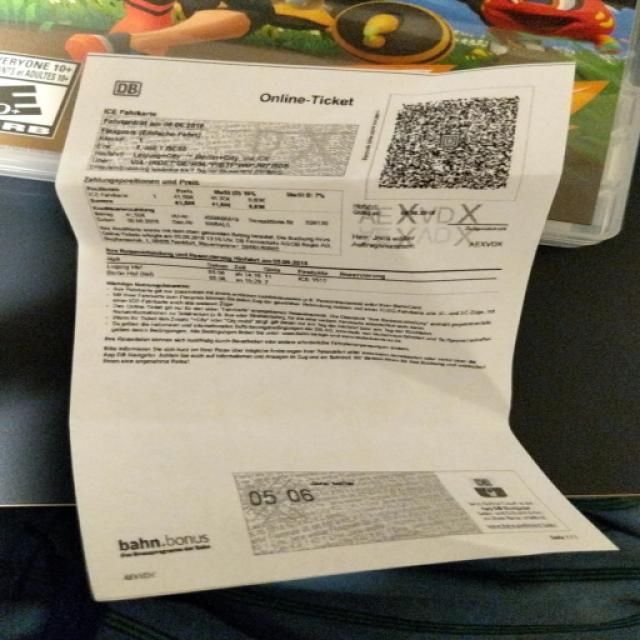document: (59, 55, 614, 600)
